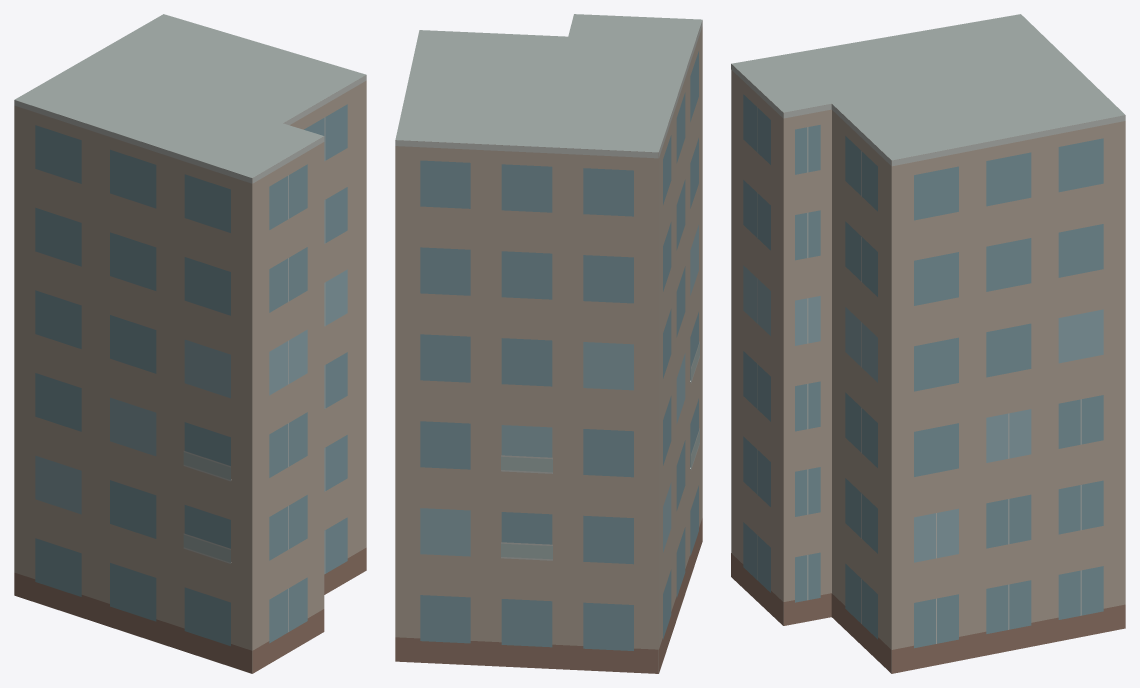
The model's file is survey-upis-32859853.glb.
3 views of the same model, side by side, from view 1: azimuth 30°, elevation 25°; view 2: azimuth 150°, elevation 25°; view 3: azimuth 270°, elevation 25° (orthographic). The views are drawn at different scales.
Parts seen in each view (by area): view 1: survey-upis-32859853.tmp; view 2: survey-upis-32859853.tmp; view 3: survey-upis-32859853.tmp.
Boxes of the visible parts, x1=… form: survey-upis-32859853.tmp: x1=14, y1=14, x2=366, y2=673; survey-upis-32859853.tmp: x1=395, y1=14, x2=702, y2=673; survey-upis-32859853.tmp: x1=731, y1=14, x2=1125, y2=673.
Size of the model in its own units: 13.11 by 21.4 by 14.91.
